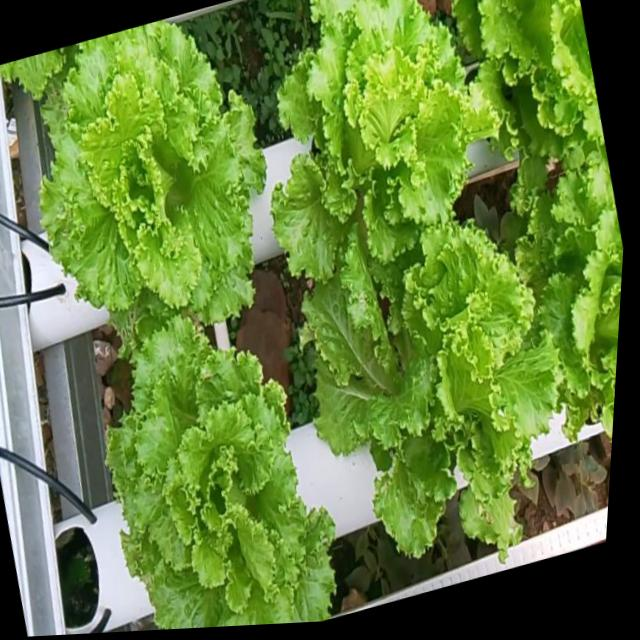Mature: (314, 214, 589, 564), (35, 11, 280, 340), (110, 303, 350, 630), (284, 0, 530, 275)
